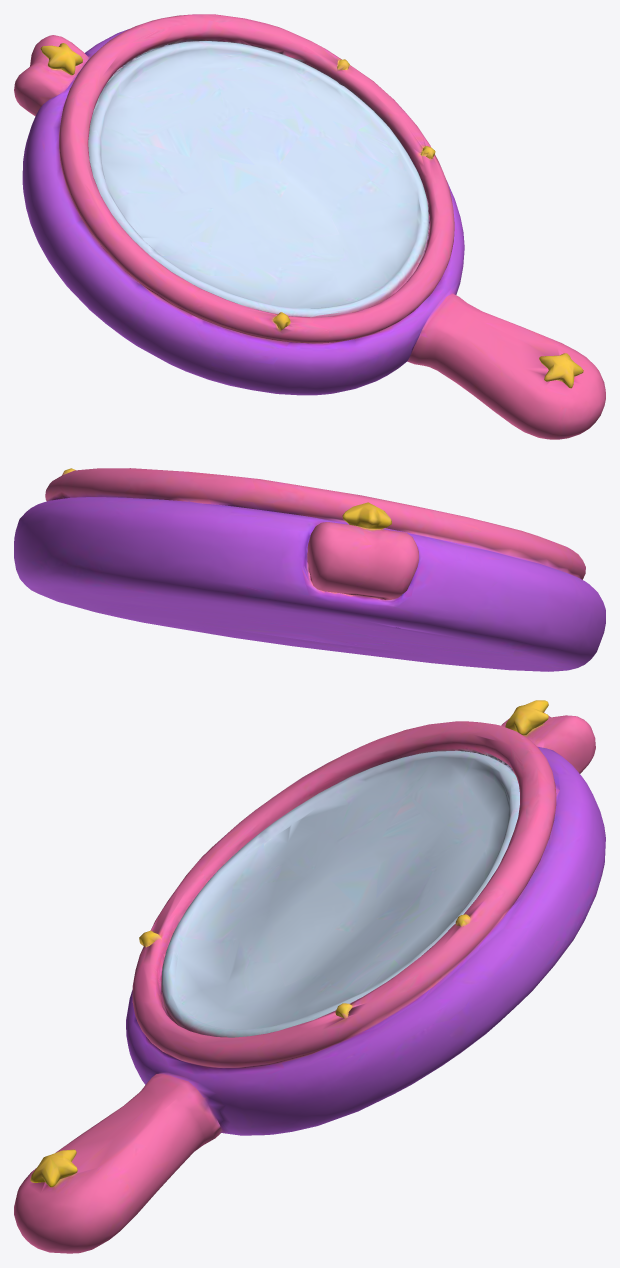
The model's file is hand_mirror.glb.
3 views of the same model, one above another, from view 1: azimuth 30°, elevation 25°; view 2: azimuth 150°, elevation 25°; view 3: azimuth 270°, elevation 25° (orthographic). The views are drawn at different scales.
Visible parts, largest first — view 1: tripo_node_0e36e9e9-7808-46b7-be72-3fcb851fef6e; view 2: tripo_node_0e36e9e9-7808-46b7-be72-3fcb851fef6e; view 3: tripo_node_0e36e9e9-7808-46b7-be72-3fcb851fef6e.
Boxes of the visible parts, x1=… form: tripo_node_0e36e9e9-7808-46b7-be72-3fcb851fef6e: x1=14, y1=14, x2=605, y2=439; tripo_node_0e36e9e9-7808-46b7-be72-3fcb851fef6e: x1=14, y1=468, x2=605, y2=671; tripo_node_0e36e9e9-7808-46b7-be72-3fcb851fef6e: x1=14, y1=700, x2=605, y2=1253.
Size of the model in its own units: 0.9768 by 0.6698 by 0.9799.
Materials: 1 (1 with a texture image).
